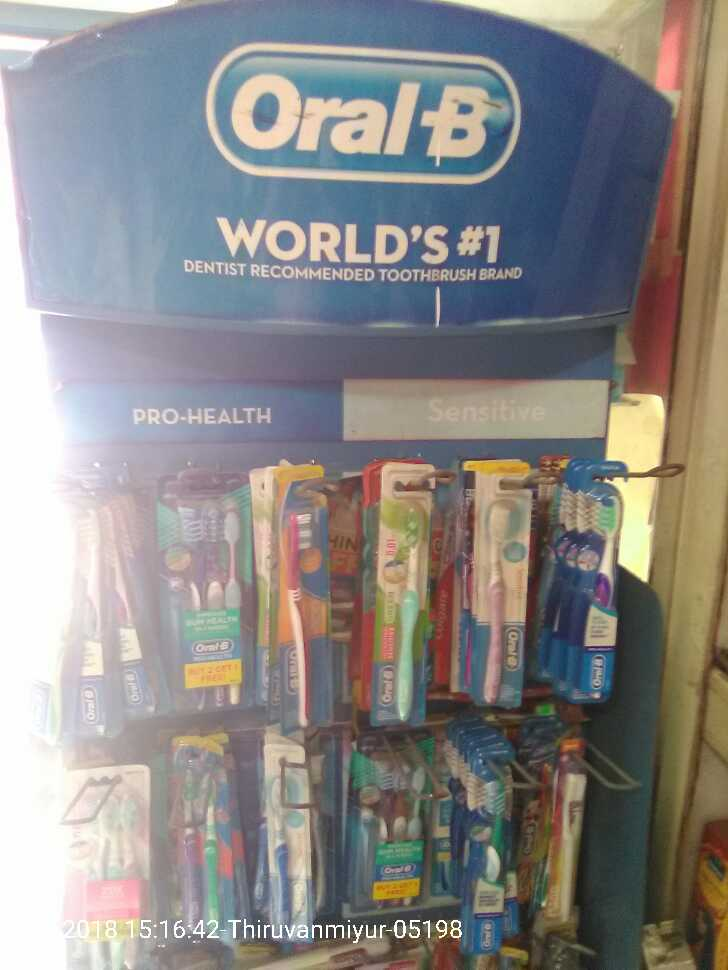oralb: (146, 485, 249, 710), (360, 503, 433, 733), (277, 500, 333, 730), (567, 486, 621, 708), (472, 494, 520, 705)
